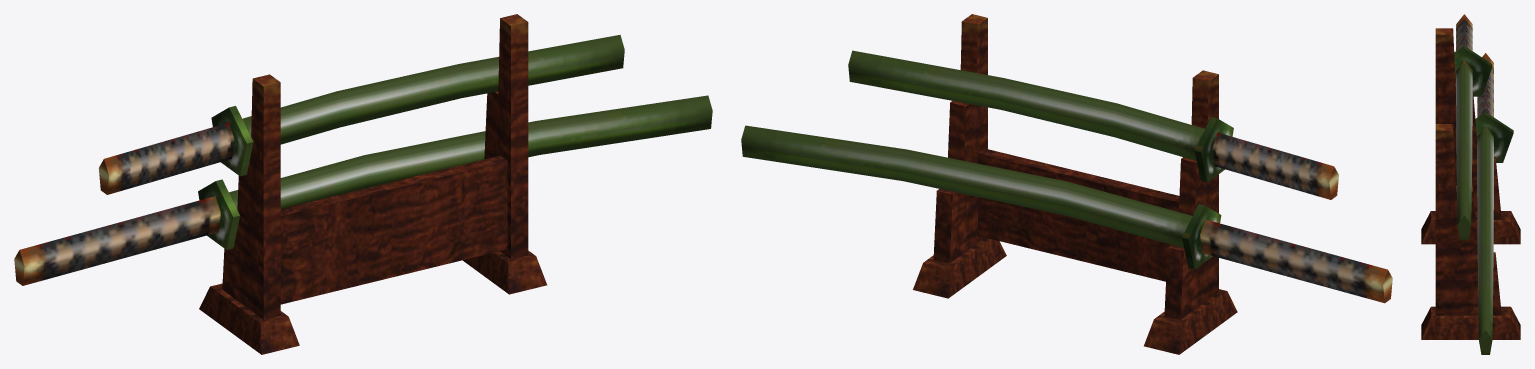
The model's file is swordrack_s5.fbx.
3 views of the same model, side by side, from view 1: azimuth 30°, elevation 25°; view 2: azimuth 150°, elevation 25°; view 3: azimuth 270°, elevation 25° (orthographic). The views are drawn at different scales.
Visible parts, largest first — view 1: mesh_0, mesh_2, mesh_1, mesh_3, mesh_4; view 2: mesh_0, mesh_1, mesh_2, mesh_4, mesh_3; view 3: mesh_4, mesh_0, mesh_3, mesh_1.
Part boxes in pixels (box(x1,y1,x2,y2)): mesh_0: box(14, 95, 712, 285); mesh_2: box(280, 155, 507, 304); mesh_1: box(98, 34, 624, 194); mesh_3: box(199, 74, 299, 354); mesh_4: box(463, 14, 546, 294); mesh_0: box(741, 125, 1392, 303); mesh_1: box(848, 50, 1338, 199); mesh_2: box(978, 148, 1179, 281); mesh_4: box(913, 14, 1006, 298); mesh_3: box(1144, 70, 1237, 354); mesh_4: box(1421, 124, 1520, 339); mesh_0: box(1475, 53, 1513, 354); mesh_3: box(1421, 28, 1520, 244); mesh_1: box(1454, 14, 1492, 240).
Bounding box in the file's own units: 132 × 47.57 × 20.88.
Materials: 1 (1 with a texture image).
